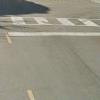Crosswalk: (1, 9, 100, 51)
